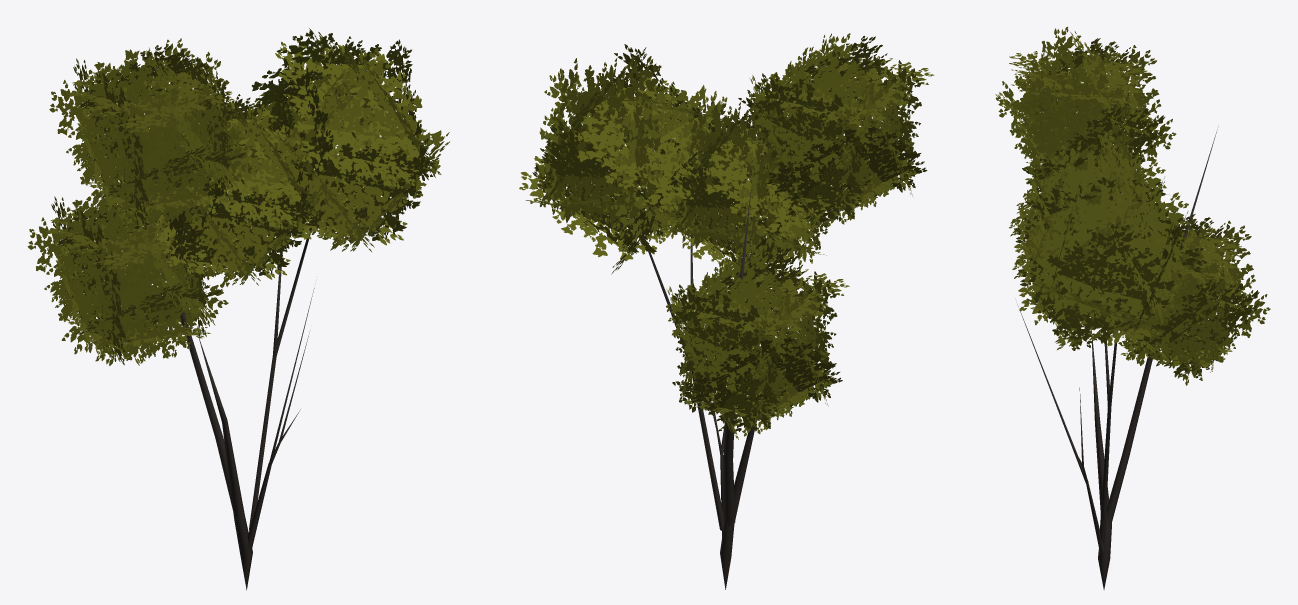
File: tree_small_e.glb
The picture shows the model from 3 angles, left to right: view 1: azimuth 30°, elevation 25°; view 2: azimuth 150°, elevation 25°; view 3: azimuth 270°, elevation 25°; orthographic projection. The views are drawn at different scales.
Parts seen in each view (by area): view 1: Object_56, Object_55; view 2: Object_56, Object_55; view 3: Object_56, Object_55.
Boxes of the visible parts, box(x1,y1,x2,y2) form: Object_56: box(27, 28, 449, 365); Object_55: box(144, 120, 342, 590); Object_56: box(519, 33, 934, 439); Object_55: box(609, 146, 786, 589); Object_56: box(995, 26, 1270, 385); Object_55: box(1017, 130, 1217, 589).
Bounding box in the file's own units: 3.74 × 5.55 × 2.87.
Materials: 2 (1 with a texture image).
